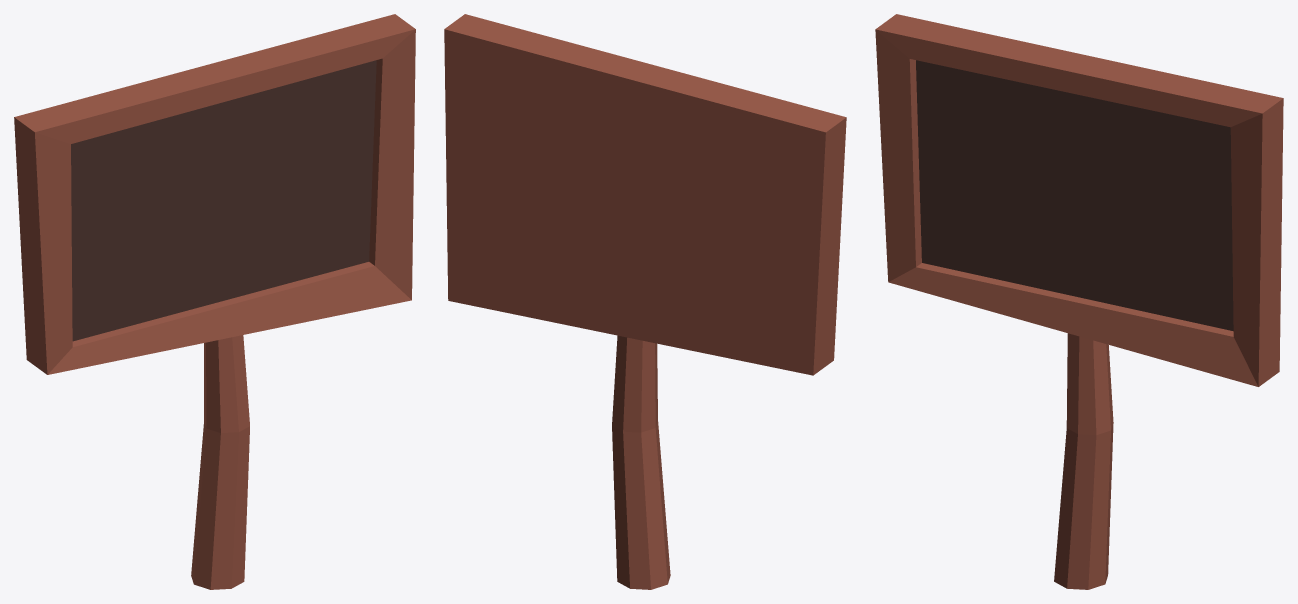
The model's file is sign.fbx.
The picture shows the model from 3 angles, left to right: view 1: azimuth 30°, elevation 25°; view 2: azimuth 150°, elevation 25°; view 3: azimuth 330°, elevation 25°; orthographic projection.
Visible parts, largest first — view 1: Sign; view 2: Sign; view 3: Sign.
Part boxes in pixels (x1,y1,x2,y2): Sign: (14,14,415,589); Sign: (444,14,846,589); Sign: (875,14,1283,589).
Size of the model in its own units: 355 by 455 by 44.5.
